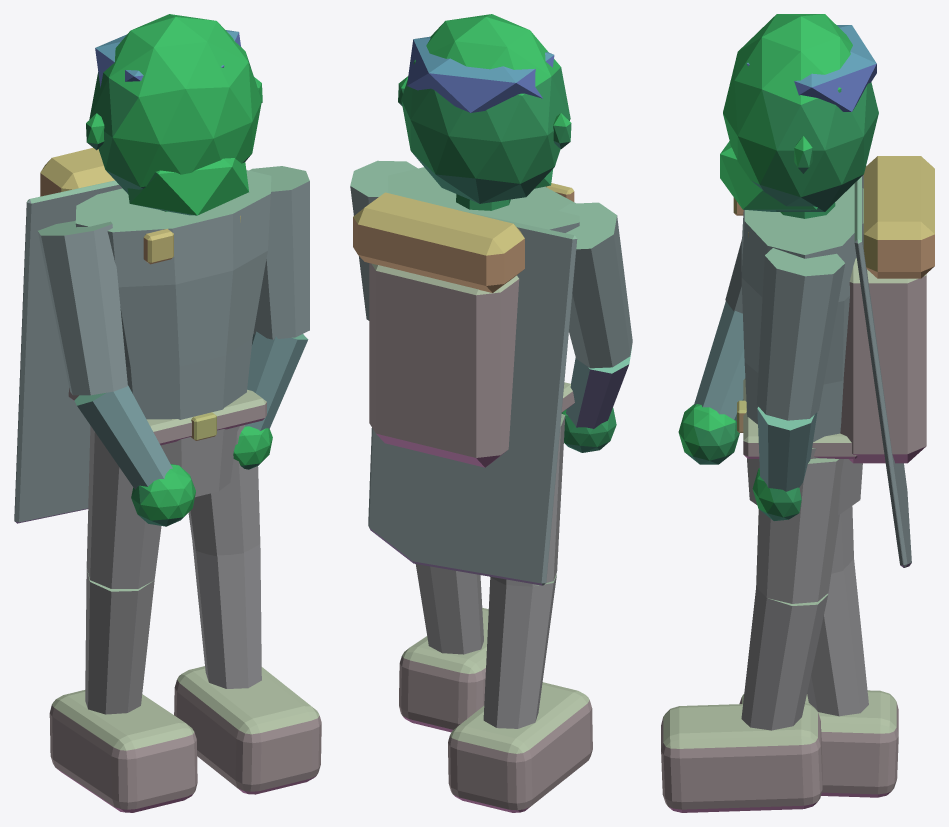
The model's file is npc_refugee_up_l_v01.glb.
The picture shows the model from 3 angles, left to right: view 1: azimuth 30°, elevation 25°; view 2: azimuth 150°, elevation 25°; view 3: azimuth 270°, elevation 25°; orthographic projection. The views are drawn at different scales.
Visible parts, largest first — view 1: GEO_npc_refugee_up_l_v01; view 2: GEO_npc_refugee_up_l_v01; view 3: GEO_npc_refugee_up_l_v01.
Boxes of the visible parts, left/top/right/bottom form: GEO_npc_refugee_up_l_v01: left=14, top=14, right=321, bottom=812; GEO_npc_refugee_up_l_v01: left=350, top=14, right=632, bottom=812; GEO_npc_refugee_up_l_v01: left=661, top=14, right=934, bottom=812.
Size of the model in its own units: 0.7519 by 2.08 by 0.6538.
